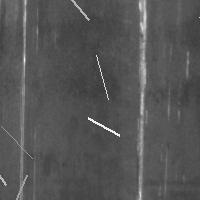scratches: (133, 1, 151, 200), (16, 1, 29, 200), (23, 0, 94, 25), (0, 121, 37, 163), (91, 50, 113, 104), (83, 113, 124, 140), (0, 100, 11, 190), (0, 170, 31, 200), (194, 1, 200, 22)
